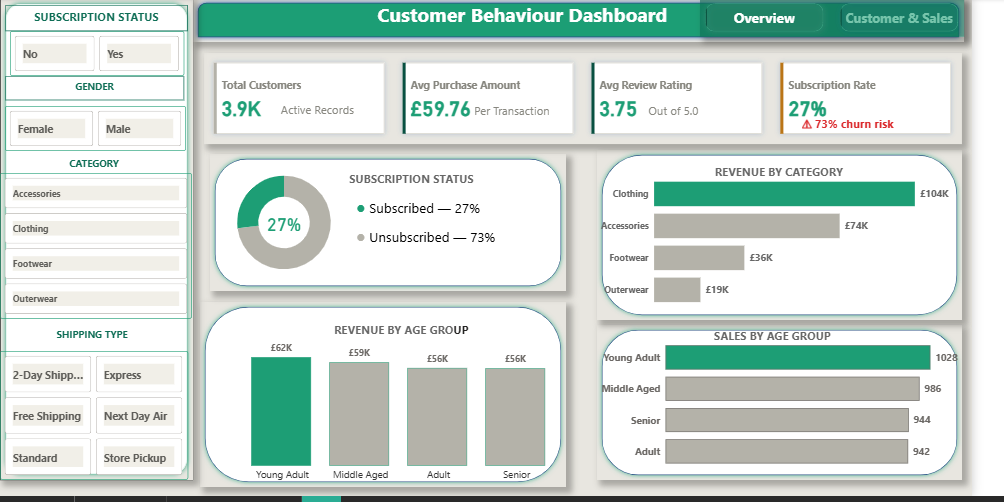

The page's visual inventory and layout, read from the dashboard file:
{"tool":"powerbi","page":{"name":"Overview","canvas":[1600,820],"ordinal":0},"visuals":[{"type":"cardVisual","fields":{"Data":["customer_data._Total Customers","customer_data.Avg Purchase Amount","customer_data.Avg Review Rating","customer_data._Subscription Rate"]},"box":[335.9,90.6,1248.1,149.8],"z":0},{"type":"shape","box":[317.8,0,1269.5,72.4],"z":1000},{"type":"textbox","box":[291.4,0,1101.6,79],"z":2000},{"type":"textbox","box":[1315.6,189.4,284.9,51],"z":3000},{"type":"textbox","box":[989.6,168,238.8,51],"z":4000},{"type":"textbox","box":[724.5,168,237.1,49.4],"z":5000},{"type":"shape","box":[983,250.3,601,279.9],"z":6000},{"type":"textbox","box":[403.4,166.3,238.8,51],"z":7000},{"type":"clusteredBarChart","fields":{"Category":["customer_data.category"],"Y":["customer_data._Total Revenue","customer_data._Total Revenue"]},"box":[983,268.4,584.5,260.2],"z":8000},{"type":"shape","box":[329.3,500.6,602.7,304.6],"z":9000},{"type":"textbox","box":[1109.8,268.4,345.8,51],"z":10000},{"type":"shape","box":[345.8,256.9,586.2,225.6],"z":11000},{"type":"columnChart","fields":{"Category":["customer_data.age_group"],"Y":["customer_data._Total Revenue"]},"box":[357.3,550,601,255.2],"z":12000},{"type":"textbox","box":[522,528.6,278.3,52.7],"z":13000},{"type":"textbox","box":[554.9,279.9,245.3,51],"z":14000},{"type":"donutChart","fields":{"Category":["customer_data.subscription_status"],"Y":["customer_data._Total Customers"]},"box":[260.2,268.4,414.9,202.5],"z":15000},{"type":"shape","box":[983,538.4,601,255.2],"z":16000},{"type":"barChart","fields":{"Category":["customer_data.age_group"],"Y":["customer_data._Total Customers"]},"box":[983,538.4,601,255.2],"z":17000},{"type":"shape","box":[0,0,317.8,793.7],"z":18000},{"type":"advancedSlicerVisual","fields":{"Values":["customer_data.subscription_status"]},"box":[16.5,54.3,286.5,74.1],"z":19000},{"type":"textbox","box":[1132.9,538.4,278.3,51],"z":20000},{"type":"textbox","box":[0,538.4,303,42.8],"z":21000},{"type":"textbox","box":[3.3,256.9,303,37.9],"z":22000},{"type":"textbox","box":[8.2,128.4,294.7,39.5],"z":23000},{"type":"textbox","box":[8.2,11.5,301.3,42.8],"z":24000},{"type":"card","fields":{"Values":["customer_data._Subscription Rate"]},"box":[396.8,335.9,141.6,70.8],"z":25000},{"type":"htmlContent443BE3AD55E043BF878BED274D3A6865","fields":{"content":["customer_data.Legend HTML"]},"box":[581.2,319.4,286.5,116.9],"z":26000},{"type":"advancedSlicerVisual","fields":{"Values":["customer_data.gender"]},"box":[8.2,177.8,298,74.1],"z":27000},{"type":"advancedSlicerVisual","fields":{"Values":["customer_data.category"]},"box":[0,288.2,316.1,240.4],"z":28000},{"type":"advancedSlicerVisual","fields":{"Values":["customer_data.shipping_type"]},"box":[0,581.2,309.6,212.4],"z":29000},{"type":"pageNavigator","box":[1152.6,0,434.7,64.2],"z":29001}]}

Visuals, with their boxes in screenshot pixels (x1, y1, x2, y2), scaled from the page's 1600x820 canvas onto the 1004x502 screenshot:
cardVisual - customer_data._Total Customers x customer_data.Avg Purchase Amount: x1=211 y1=55 x2=994 y2=147
shape: x1=199 y1=0 x2=996 y2=44
textbox: x1=183 y1=0 x2=874 y2=48
textbox: x1=826 y1=116 x2=1003 y2=147
textbox: x1=621 y1=103 x2=771 y2=134
textbox: x1=455 y1=103 x2=603 y2=133
shape: x1=617 y1=153 x2=994 y2=325
textbox: x1=253 y1=102 x2=403 y2=133
clusteredBarChart - customer_data.category x customer_data._Total Revenue: x1=617 y1=164 x2=984 y2=324
shape: x1=207 y1=306 x2=585 y2=493
textbox: x1=696 y1=164 x2=913 y2=196
shape: x1=217 y1=157 x2=585 y2=295
columnChart - customer_data.age_group x customer_data._Total Revenue: x1=224 y1=337 x2=601 y2=493
textbox: x1=328 y1=324 x2=502 y2=356
textbox: x1=348 y1=171 x2=502 y2=203
donutChart - customer_data.subscription_status x customer_data._Total Customers: x1=163 y1=164 x2=424 y2=288
shape: x1=617 y1=330 x2=994 y2=486
barChart - customer_data.age_group x customer_data._Total Customers: x1=617 y1=330 x2=994 y2=486
shape: x1=0 y1=0 x2=199 y2=486
advancedSlicerVisual - customer_data.subscription_status: x1=10 y1=33 x2=190 y2=79
textbox: x1=711 y1=330 x2=886 y2=361
textbox: x1=0 y1=330 x2=190 y2=356
textbox: x1=2 y1=157 x2=192 y2=180
textbox: x1=5 y1=79 x2=190 y2=103
textbox: x1=5 y1=7 x2=194 y2=33
card - customer_data._Subscription Rate: x1=249 y1=206 x2=338 y2=249
htmlContent443BE3AD55E043BF878BED274D3A6865 - customer_data.Legend HTML: x1=365 y1=196 x2=544 y2=267
advancedSlicerVisual - customer_data.gender: x1=5 y1=109 x2=192 y2=154
advancedSlicerVisual - customer_data.category: x1=0 y1=176 x2=198 y2=324
advancedSlicerVisual - customer_data.shipping_type: x1=0 y1=356 x2=194 y2=486
pageNavigator: x1=723 y1=0 x2=996 y2=39
